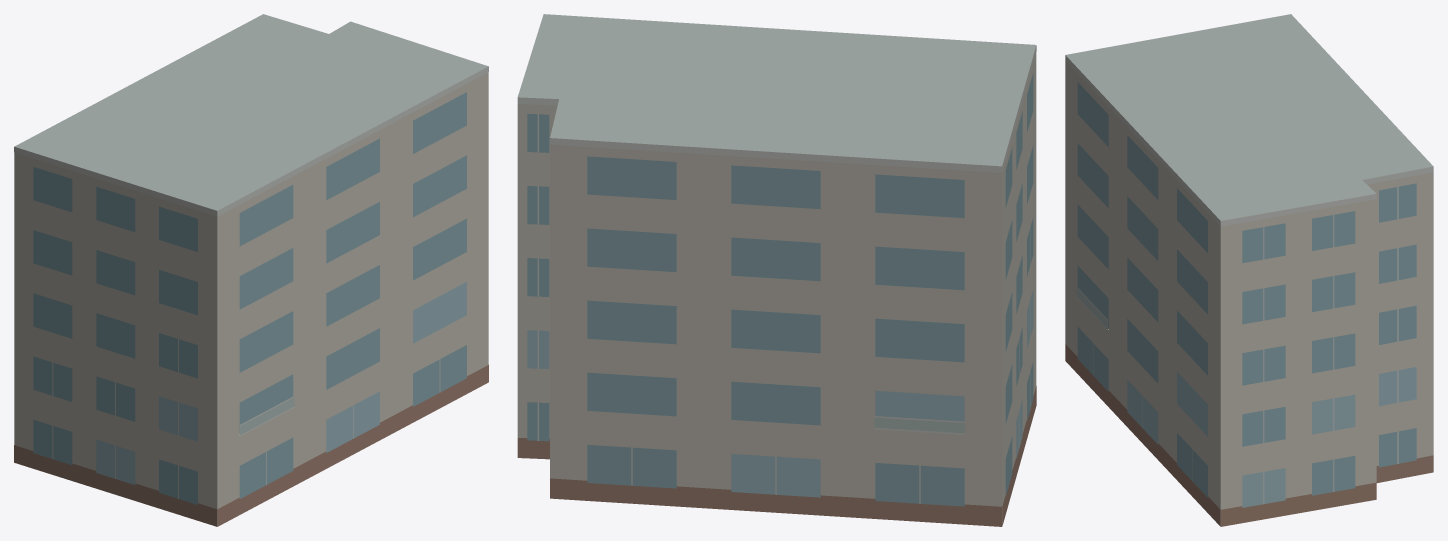
File: survey-upis-32881922.glb
The picture shows the model from 3 angles, left to right: view 1: azimuth 30°, elevation 25°; view 2: azimuth 150°, elevation 25°; view 3: azimuth 270°, elevation 25°; orthographic projection. The views are drawn at different scales.
Visible parts, largest first — view 1: survey-upis-32881922.tmp; view 2: survey-upis-32881922.tmp; view 3: survey-upis-32881922.tmp.
Part boxes in pixels (box(x1,y1,x2,y2)): survey-upis-32881922.tmp: box(14, 14, 488, 526); survey-upis-32881922.tmp: box(517, 14, 1036, 526); survey-upis-32881922.tmp: box(1065, 14, 1433, 526).
Bounding box in the file's own units: 19.6 × 13.5 × 14.74.
